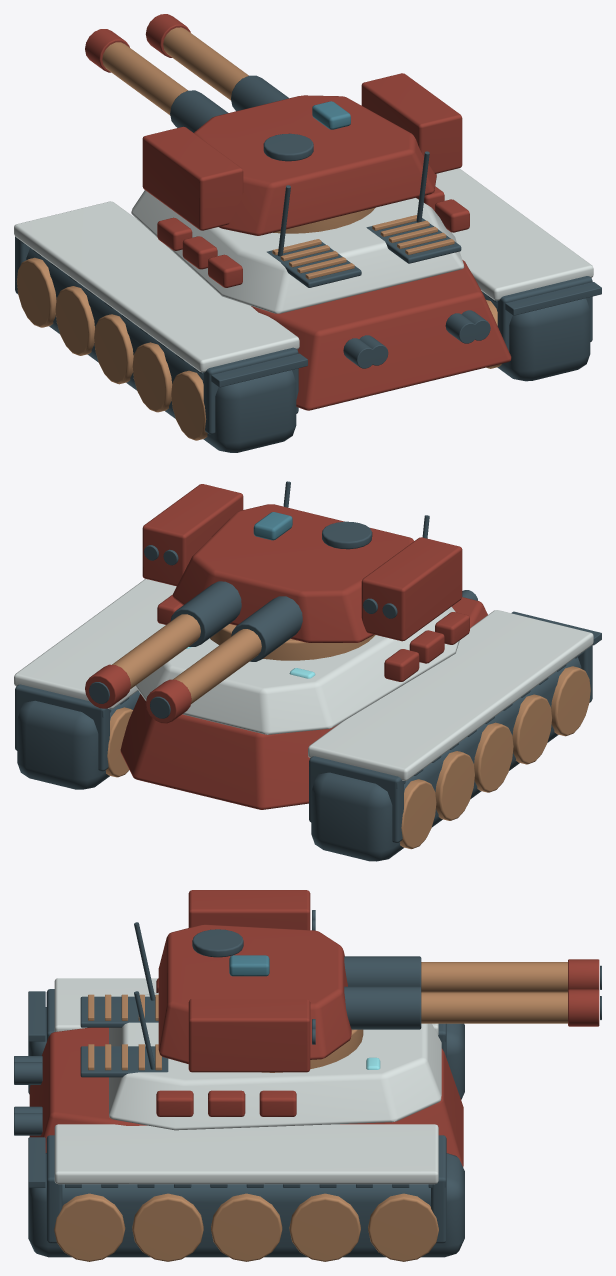
Rendered from MantaTank115.fbx.
3 views of the same model, one above another, from view 1: azimuth 30°, elevation 25°; view 2: azimuth 150°, elevation 25°; view 3: azimuth 270°, elevation 25° (orthographic).
Parts seen in each view (by area): view 1: Faceted turret.001, Overhanging fender.002, Cast lower hull.001, Sloped glacis.001, Overhanging fender.003, Recessed track drive.002, Armoured missile pod, Recessed track drive.003, Armoured missile pod.001, Rifled long barrel.003, Rifled long barrel.002, Suspension road wheel.028 (+23 smaller); view 2: Overhanging fender.002, Faceted turret.001, Sloped glacis.001, Cast lower hull.001, Recessed track drive.002, Overhanging fender.003, Armoured missile pod, Recessed track drive.003, Armoured missile pod.001, Rifled long barrel.002, Rifled long barrel.003, Recoil sleeve.003 (+17 smaller); view 3: Overhanging fender.003, Sloped glacis.001, Faceted turret.001, Recessed track drive.003, Armoured missile pod.001, Cast lower hull.001, Rifled long barrel.003, Armoured missile pod, Rifled long barrel.002, Suspension road wheel.035, Suspension road wheel.033, Suspension road wheel.037 (+22 smaller).
Part boxes in pixels (x1=…): Faceted turret.001: x1=194, y1=95, x2=436, y2=235; Overhanging fender.002: x1=14, y1=201, x2=299, y2=372; Cast lower hull.001: x1=251, y1=260, x2=511, y2=410; Sloped glacis.001: x1=131, y1=190, x2=464, y2=313; Overhanging fender.003: x1=435, y1=168, x2=593, y2=300; Recessed track drive.002: x1=26, y1=247, x2=296, y2=452; Armoured missile pod: x1=142, y1=126, x2=243, y2=230; Recessed track drive.003: x1=481, y1=291, x2=590, y2=381; Armoured missile pod.001: x1=361, y1=73, x2=462, y2=173; Rifled long barrel.003: x1=163, y1=27, x2=248, y2=100; Rifled long barrel.002: x1=102, y1=42, x2=187, y2=115; Suspension road wheel.028: x1=17, y1=257, x2=56, y2=327; Overhanging fender.002: x1=308, y1=610, x2=593, y2=780; Faceted turret.001: x1=172, y1=504, x2=413, y2=642; Sloped glacis.001: x1=135, y1=606, x2=459, y2=734; Cast lower hull.001: x1=120, y1=597, x2=487, y2=809; Recessed track drive.002: x1=311, y1=657, x2=581, y2=861; Overhanging fender.003: x1=14, y1=579, x2=176, y2=709; Armoured missile pod: x1=361, y1=537, x2=462, y2=641; Recessed track drive.003: x1=17, y1=691, x2=140, y2=789; Armoured missile pod.001: x1=142, y1=484, x2=243, y2=586; Rifled long barrel.002: x1=173, y1=629, x2=261, y2=703; Rifled long barrel.003: x1=112, y1=614, x2=200, y2=689; Recoil sleeve.003: x1=170, y1=581, x2=241, y2=646; Overhanging fender.003: x1=54, y1=1124, x2=438, y2=1184; Sloped glacis.001: x1=109, y1=992, x2=441, y2=1130; Faceted turret.001: x1=158, y1=924, x2=351, y2=1063; Recessed track drive.003: x1=28, y1=1153, x2=464, y2=1257; Armoured missile pod.001: x1=188, y1=999, x2=310, y2=1072; Cast lower hull.001: x1=29, y1=1027, x2=463, y2=1166; Rifled long barrel.003: x1=421, y1=992, x2=567, y2=1023; Armoured missile pod: x1=188, y1=890, x2=310, y2=930; Rifled long barrel.002: x1=421, y1=962, x2=567, y2=992; Suspension road wheel.035: x1=211, y1=1193, x2=282, y2=1261; Suspension road wheel.033: x1=132, y1=1193, x2=203, y2=1261; Suspension road wheel.037: x1=289, y1=1193, x2=360, y2=1261.
Bounding box in the file's own units: 324 × 175 × 411.
